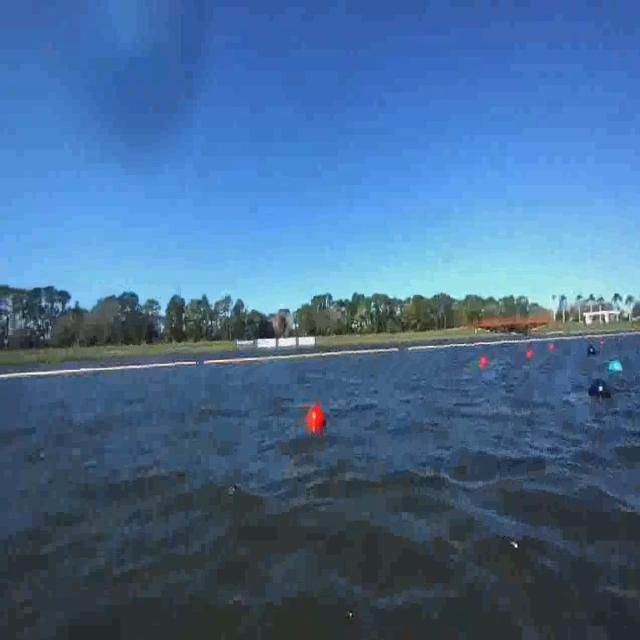black-buoy: (590, 378, 612, 399)
green-buoy: (607, 358, 622, 375)
red-buoy: (306, 408, 324, 434), (527, 350, 534, 360)
